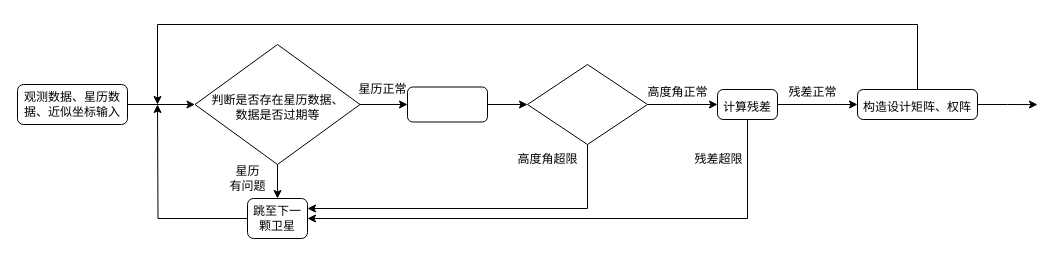
This 1063x256 diagram has some shape labels left out. The centre of each missing label's shape, as x and y in pixels:
计算卫星坐标、速度: the point at 447,104
计算卫星高度角: the point at 587,104
